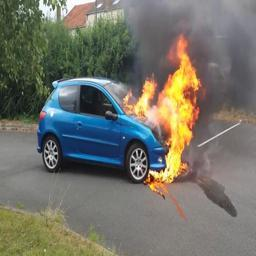fire: (125, 33, 202, 184)
